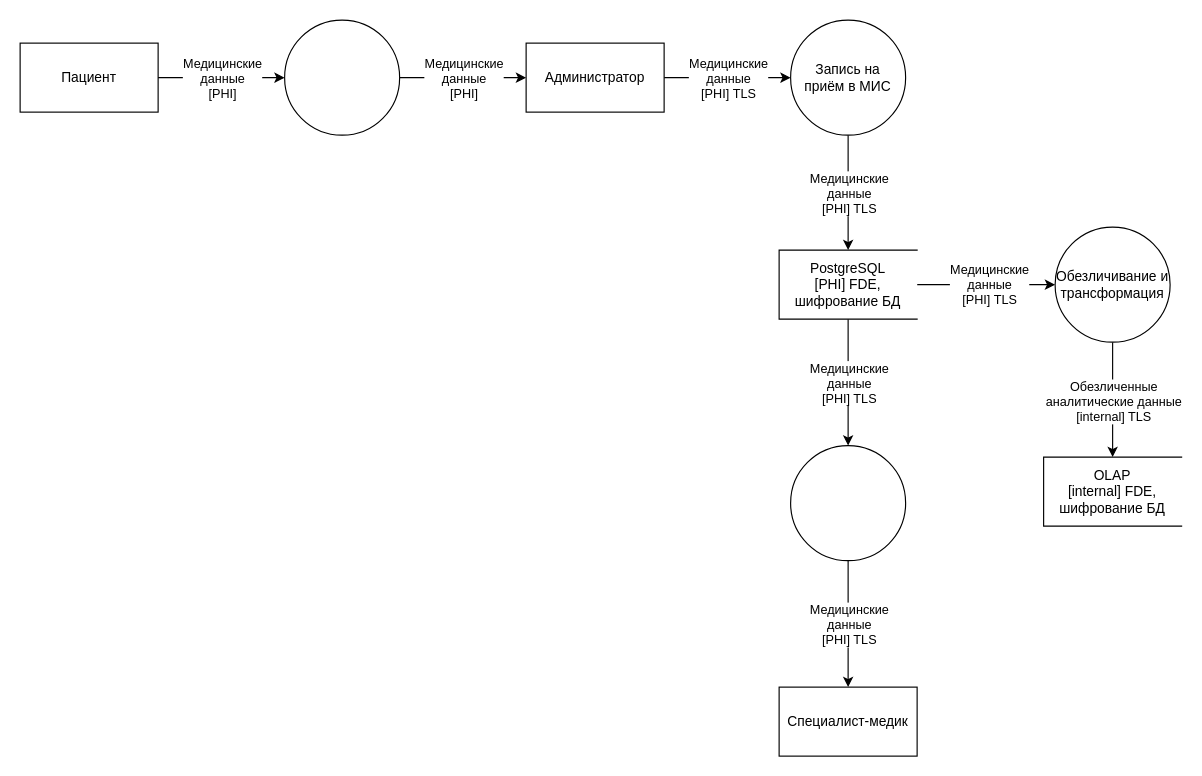
The diagram is 1202 pixels wide and 776 high, and some of its shapes have lost their labels. Each missing label, with the centre of its shape:
Прием обращения о записи: pixel 341 77
Просмотр и редактирование журнала: pixel 847 502
